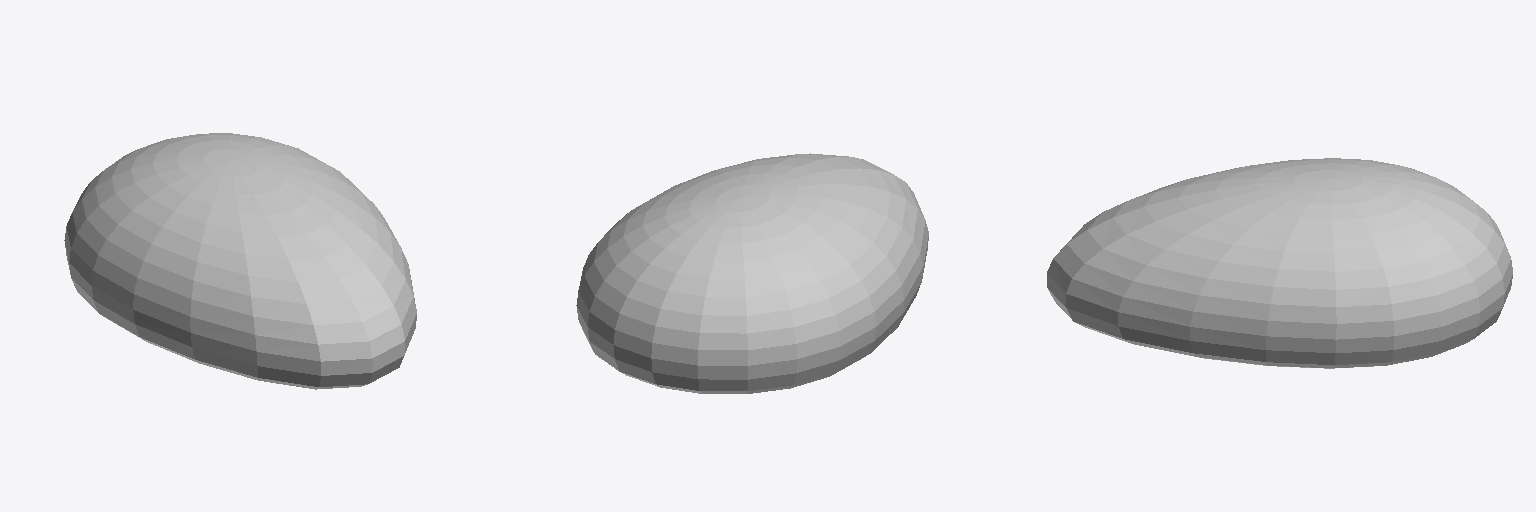
File: player_leg_right_2.obj
3 views of the same model, side by side, from view 1: azimuth 30°, elevation 25°; view 2: azimuth 150°, elevation 25°; view 3: azimuth 270°, elevation 25° (orthographic).
Parts seen in each view (by area): view 1: Leg_L1; view 2: Leg_L1; view 3: Leg_L1.
Boxes of the visible parts, x1,y1,x2,y2 form: Leg_L1: [64, 133, 416, 389]; Leg_L1: [576, 153, 928, 393]; Leg_L1: [1047, 158, 1512, 368].
Bounding box in the file's own units: 0.3346 × 0.1797 × 0.4958.